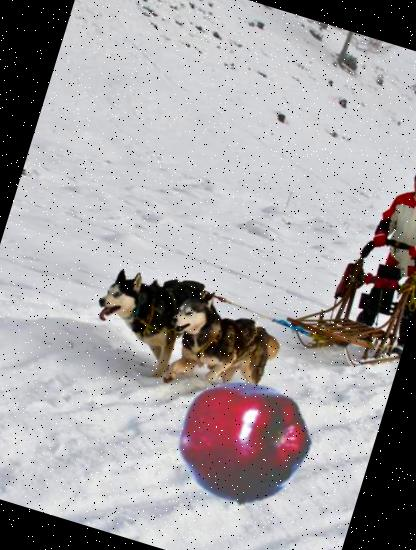Apple: (160, 358, 330, 528)
